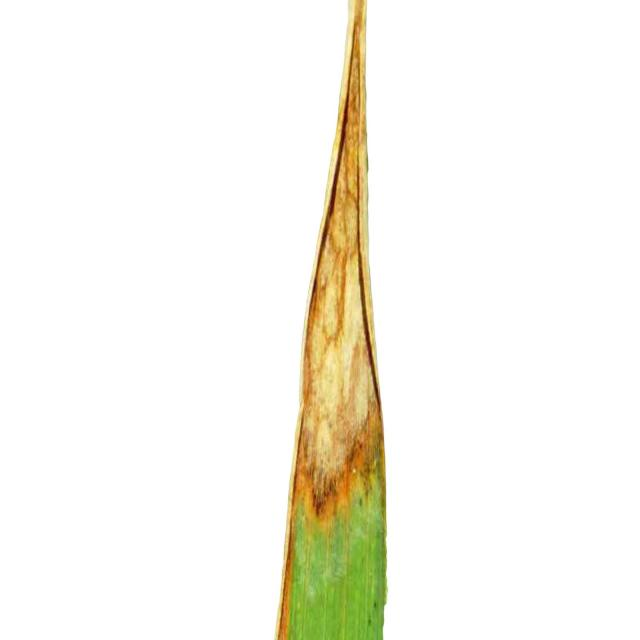Leaf scald: (224, 0, 478, 640)
